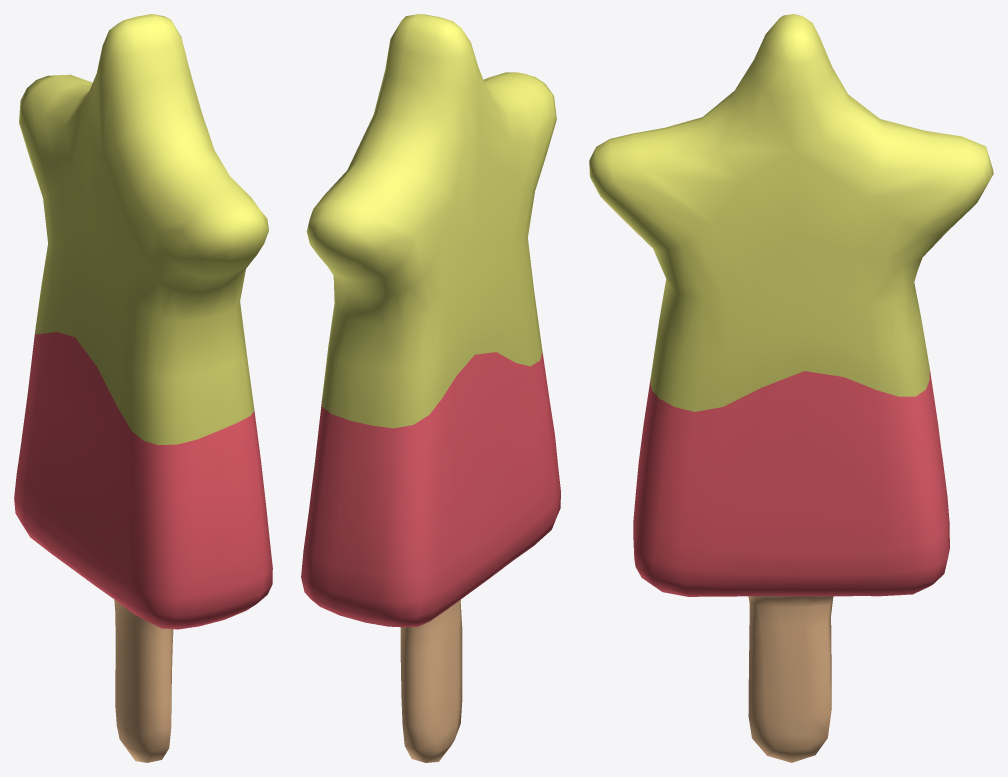
Rendered from IceCream_0001_0026.fbx.
The picture shows the model from 3 angles, left to right: view 1: azimuth 30°, elevation 25°; view 2: azimuth 150°, elevation 25°; view 3: azimuth 270°, elevation 25°; orthographic projection.
Parts seen in each view (by area): view 1: Ice_0001_0026; view 2: Ice_0001_0026; view 3: Ice_0001_0026.
Part boxes in pixels (bbox=[...]): Ice_0001_0026: bbox=[14, 14, 272, 762]; Ice_0001_0026: bbox=[301, 14, 560, 762]; Ice_0001_0026: bbox=[589, 14, 993, 762].
Bounding box in the file's own units: 0.0247 × 0.137 × 0.068.
1 material, 1 textured.
